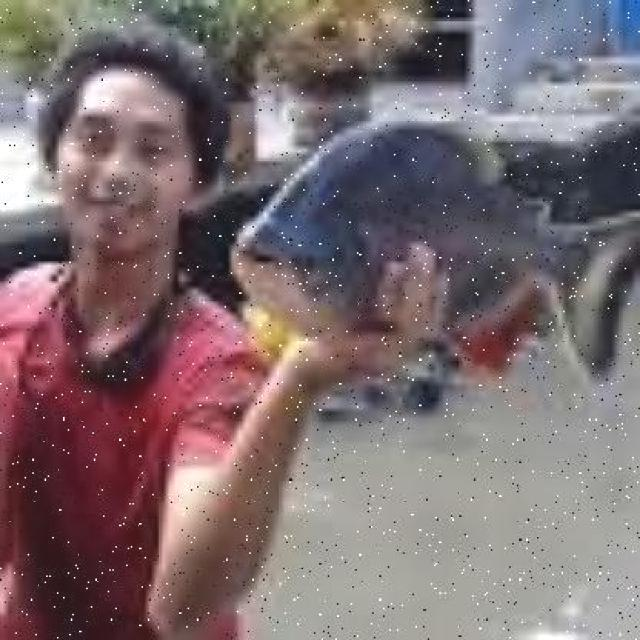ikan-pacu: (227, 121, 635, 386)
